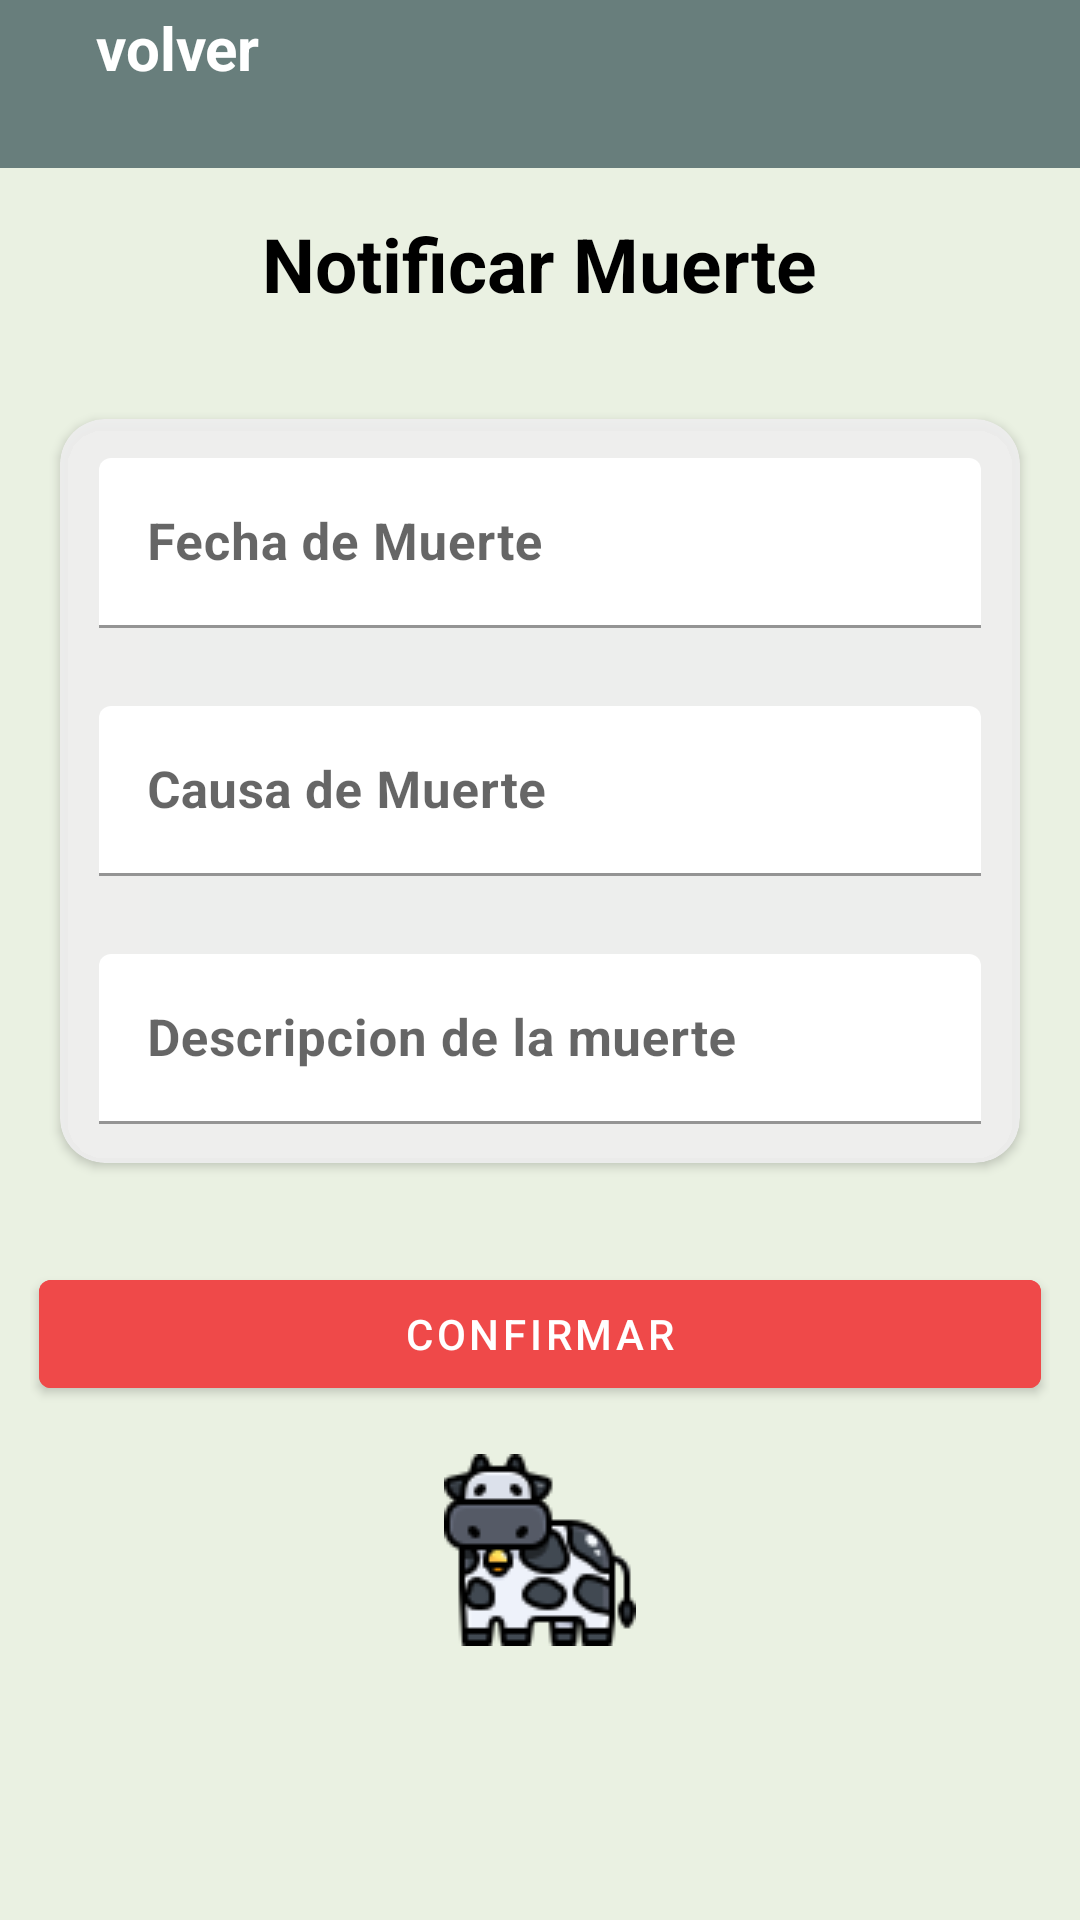

Icon bounding boxes for this 1080px x 1920px phone screenshot, format (x1, y1, x2, y2):
cow: (444, 1454, 636, 1646)
